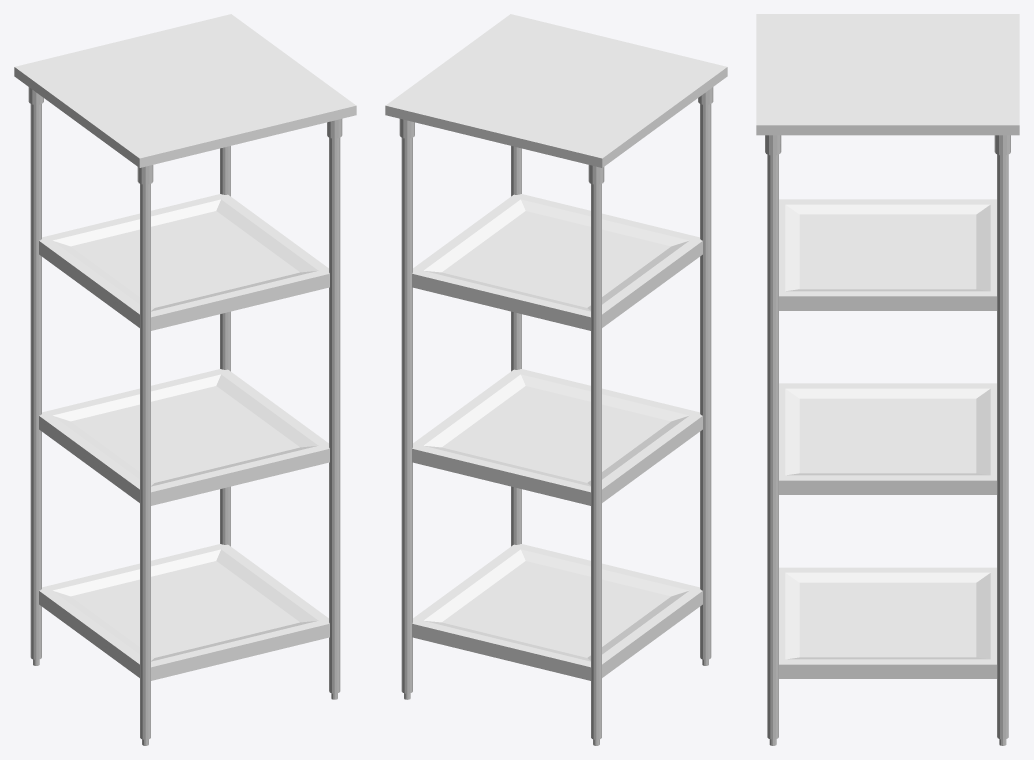
Rendered from Shelf_Visual.fbx.
3 views of the same model, side by side, from view 1: azimuth 30°, elevation 25°; view 2: azimuth 150°, elevation 25°; view 3: azimuth 270°, elevation 25° (orthographic). The views are drawn at different scales.
Parts seen in each view (by area): view 1: ShelfPanel, ShelfColumn; view 2: ShelfPanel, ShelfColumn; view 3: ShelfPanel, ShelfColumn.
Part boxes in pixels (x1,y1,x2,y2): ShelfPanel: (14,14,356,680); ShelfColumn: (28,87,342,745); ShelfPanel: (385,14,727,680); ShelfColumn: (399,87,713,745); ShelfPanel: (756,14,1019,678); ShelfColumn: (765,135,1010,745).
Bounding box in the file's own units: 75.06 × 197 × 75.06.
Materials: 2 (2 with a texture image).
